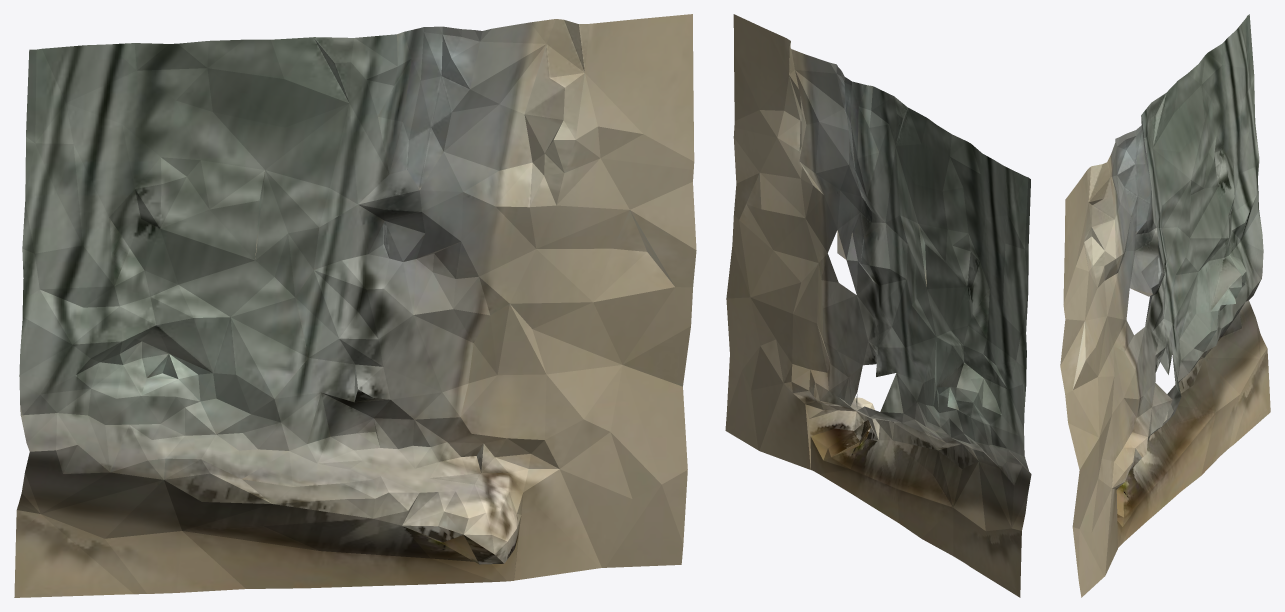
The picture shows the model from 3 angles, left to right: view 1: azimuth 30°, elevation 25°; view 2: azimuth 150°, elevation 25°; view 3: azimuth 270°, elevation 25°; orthographic projection. The views are drawn at different scales.
Bounding box in the file's own units: 0.8373 × 0.8374 × 0.401.
Materials: 3 (3 with a texture image).
